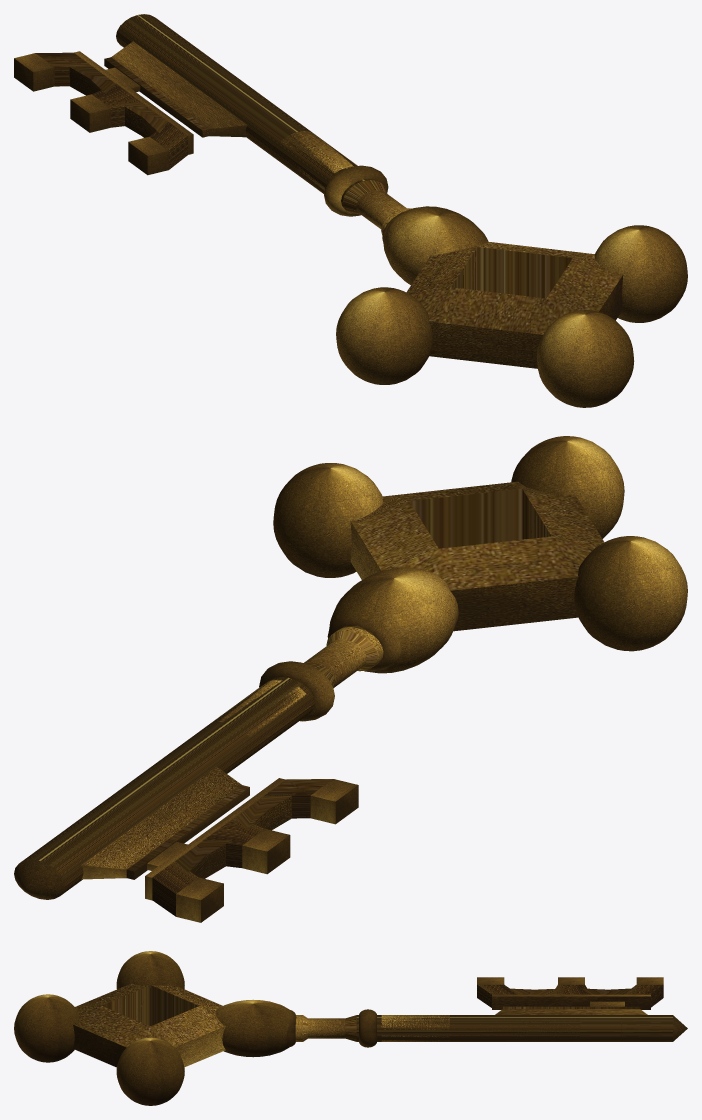
Rendered from David_basement key.fbx.
3 renders of one model, top to bottom at view 1: azimuth 30°, elevation 25°; view 2: azimuth 150°, elevation 25°; view 3: azimuth 270°, elevation 25°, orthographic. The views are drawn at different scales.
Parts seen in each view (by area): view 1: pCube9; view 2: pCube9; view 3: pCube9.
Part boxes in pixels (x1,y1,x2,y2): pCube9: (14, 14, 687, 407); pCube9: (14, 436, 687, 922); pCube9: (14, 951, 687, 1105).
Size of the model in its own units: 1.32 by 0.3299 by 3.25.
Materials: 1 (1 with a texture image).
